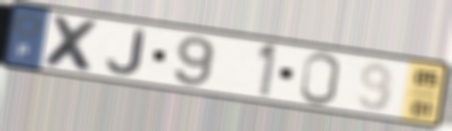0: (298, 50, 342, 108)
1: (254, 42, 281, 102)
9: (170, 34, 218, 90), (356, 60, 399, 113)
J: (105, 27, 148, 77)
X: (41, 12, 104, 76)
